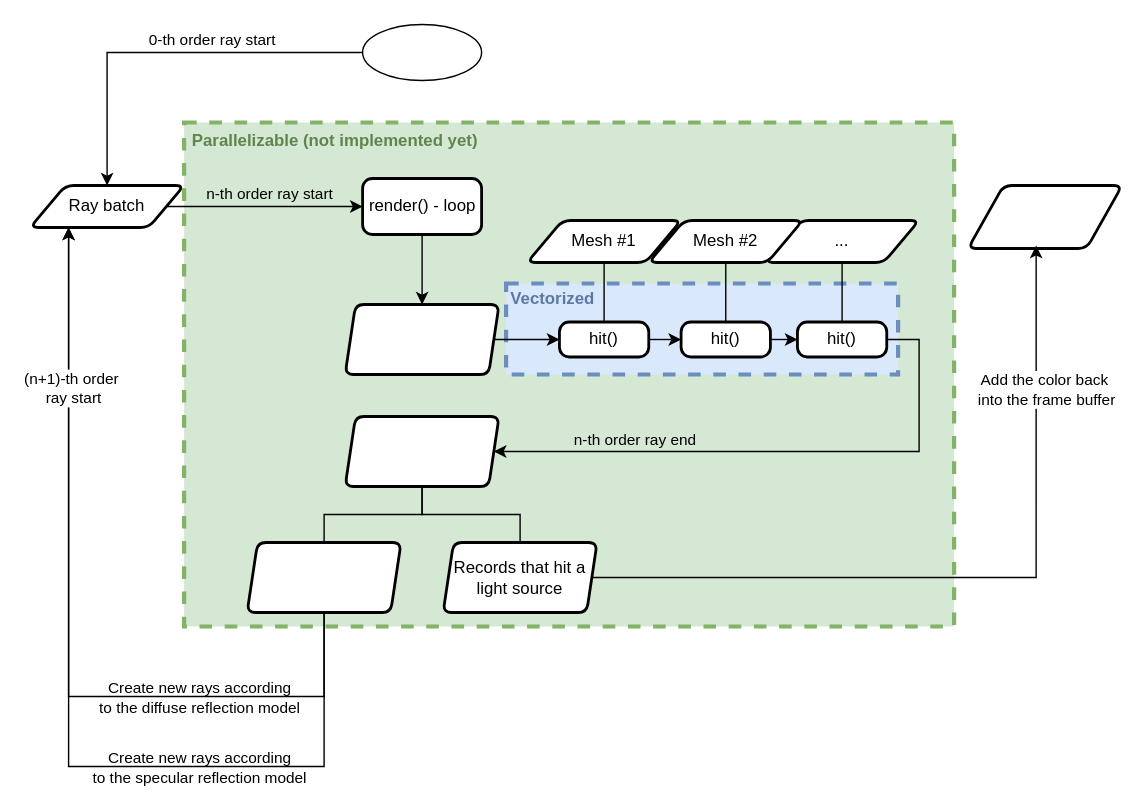
This 1148x809 diagram has some shape labels left out. Each missing label, with the centre of its shape:
Frame buffer (result image): (1044,216)
HitRecord (contains all necessary data): (421,450)
HitRecord (initial value): (421,338)
Records that hit a normal object: (323,576)
render(): (421,51)
